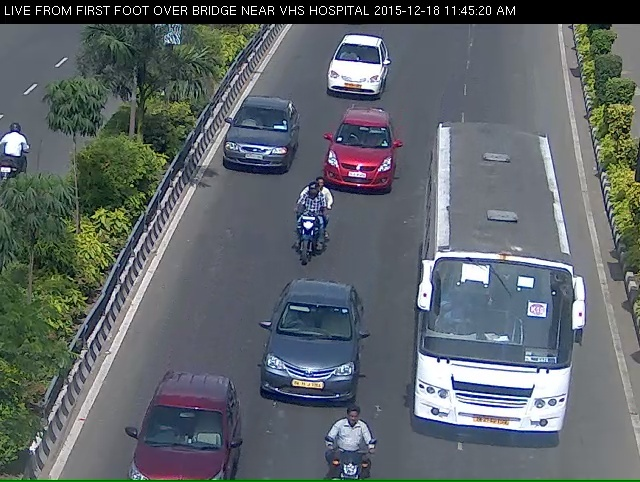Bus: (411, 114, 591, 464)
Car: (316, 116, 400, 206), (218, 97, 296, 189), (320, 38, 392, 106)
Person: (291, 191, 325, 278)
